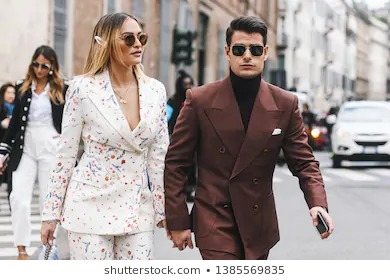F_M_suit jacket: (160, 69, 333, 258)
